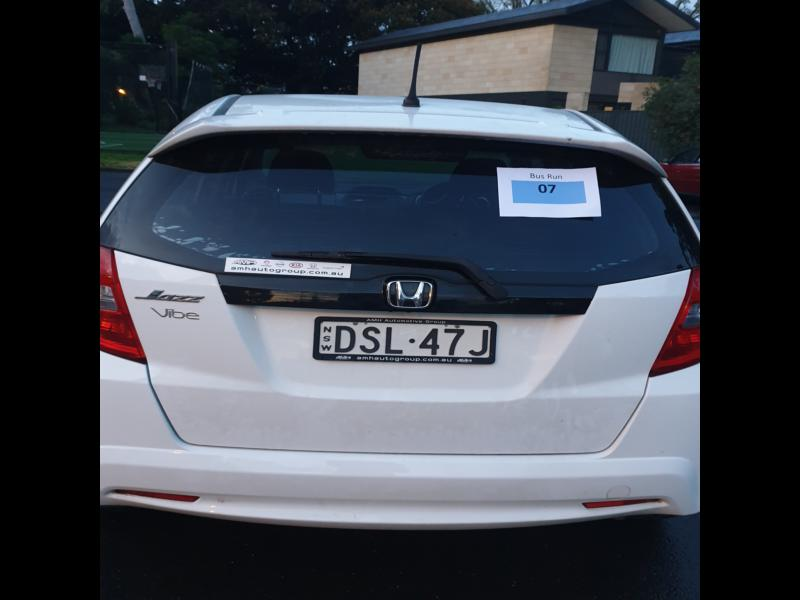BusRun: (512, 180, 588, 204)
PlateNo: (319, 318, 492, 363)
